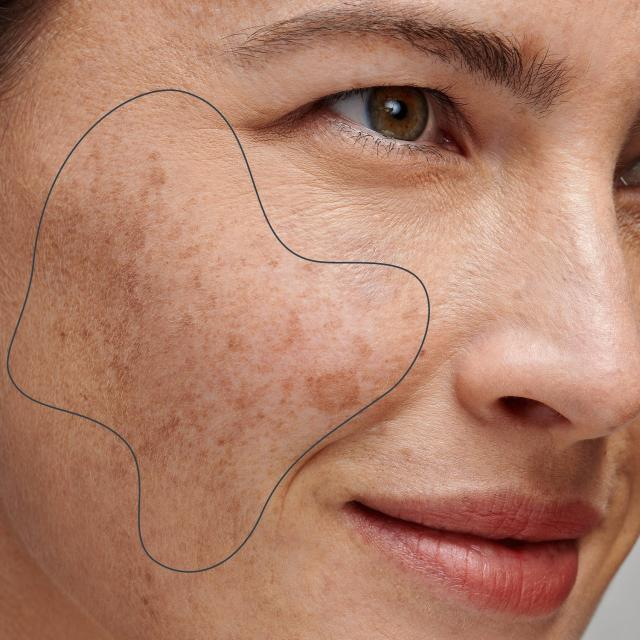pigmentation: (51, 169, 350, 470)
